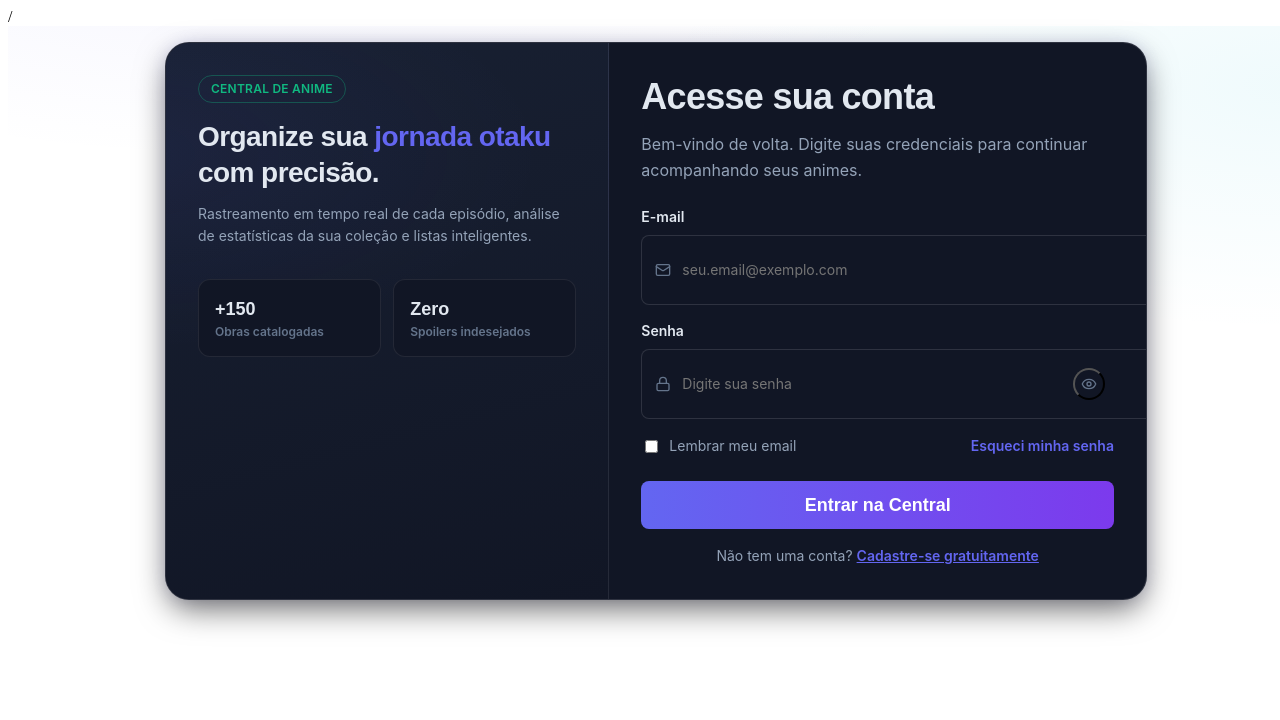
Test: frontend authentication flows › permite mostrar e ocultar a senha sem perder o valor digitado
The width and height of the screenshot is (1280, 720).
Type "senha-ficticia" into the password field with placeholder "Digite sua senha" at [919, 384], box [641,349,1196,419]
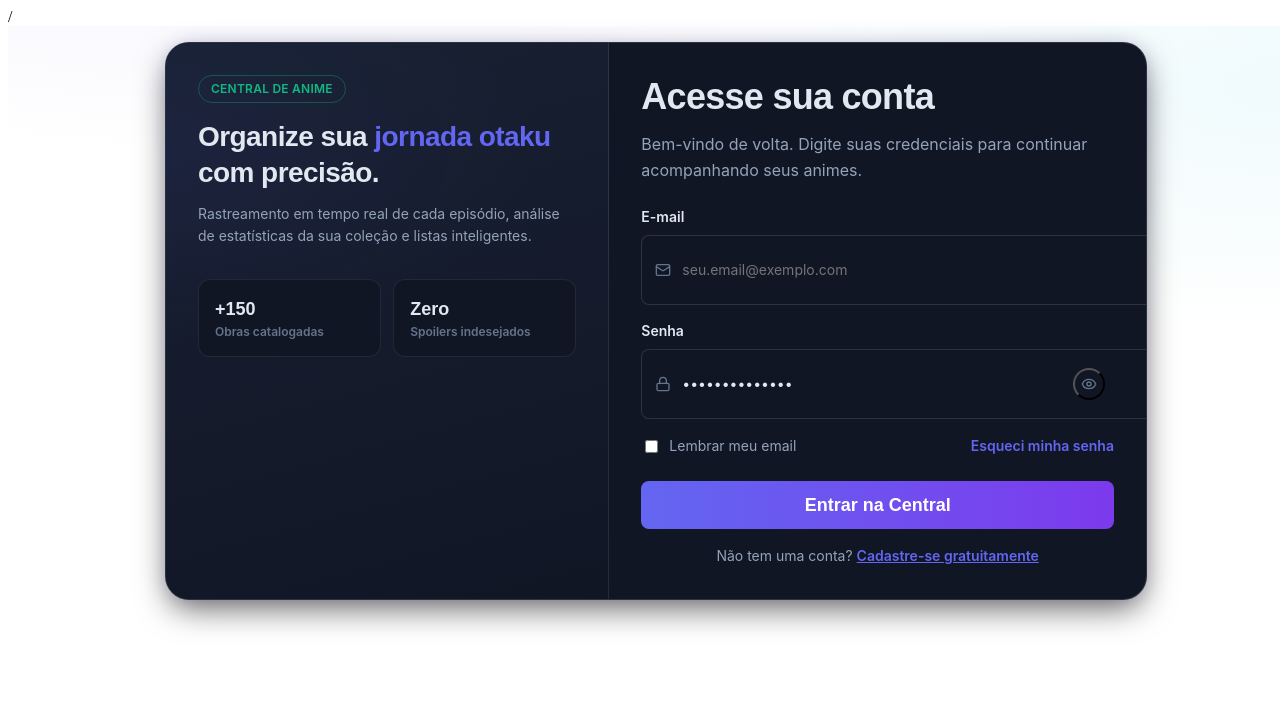
Click the button named "Mostrar senha" at [1089, 384], box [1073,368,1105,400]
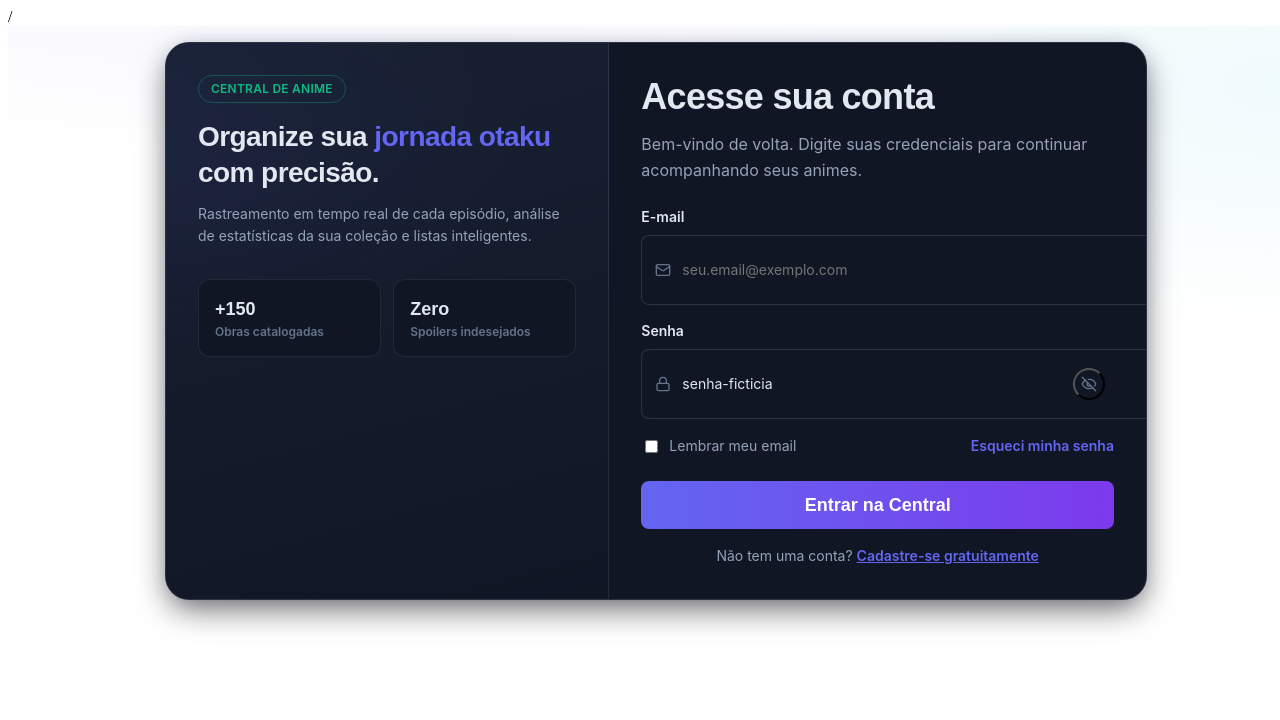
Result: the field with placeholder "Digite sua senha" shows its text at [641,349,1147,419]
Click the button named "Ocultar senha" at [1089, 384], box [1073,368,1105,400]
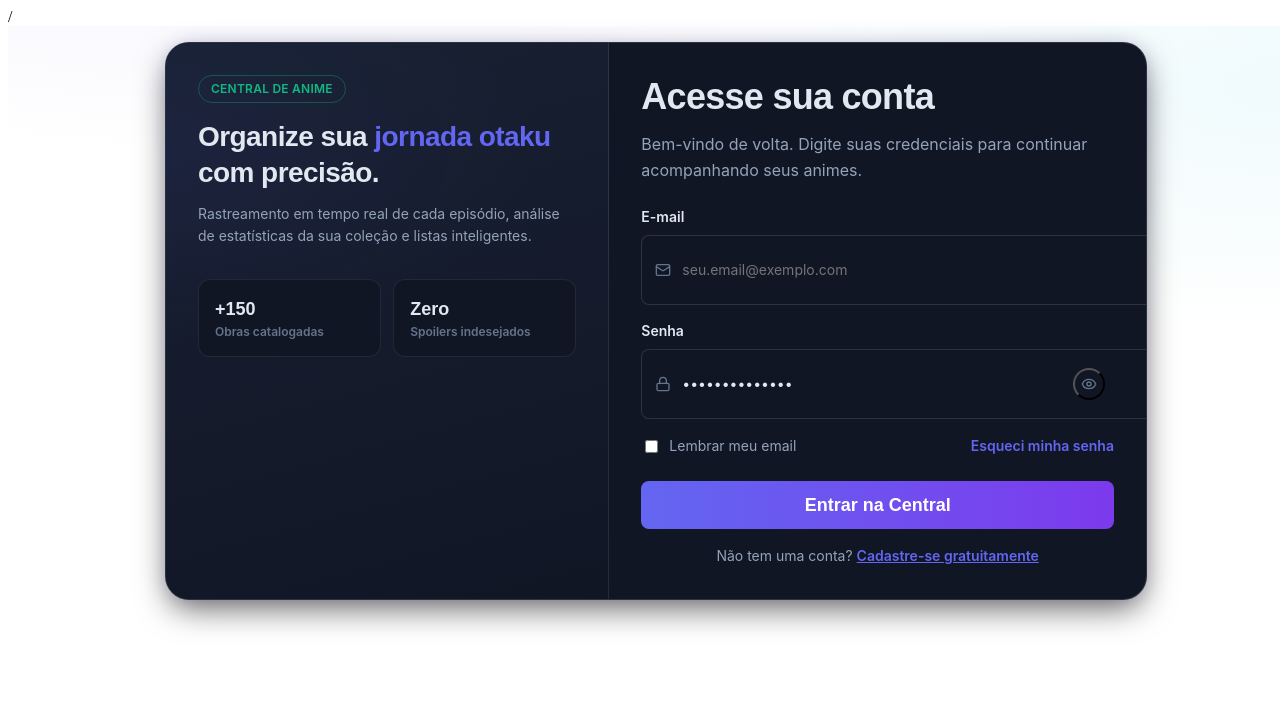
Result: the password field with placeholder "Digite sua senha" hides its text at [641,349,1147,419]
